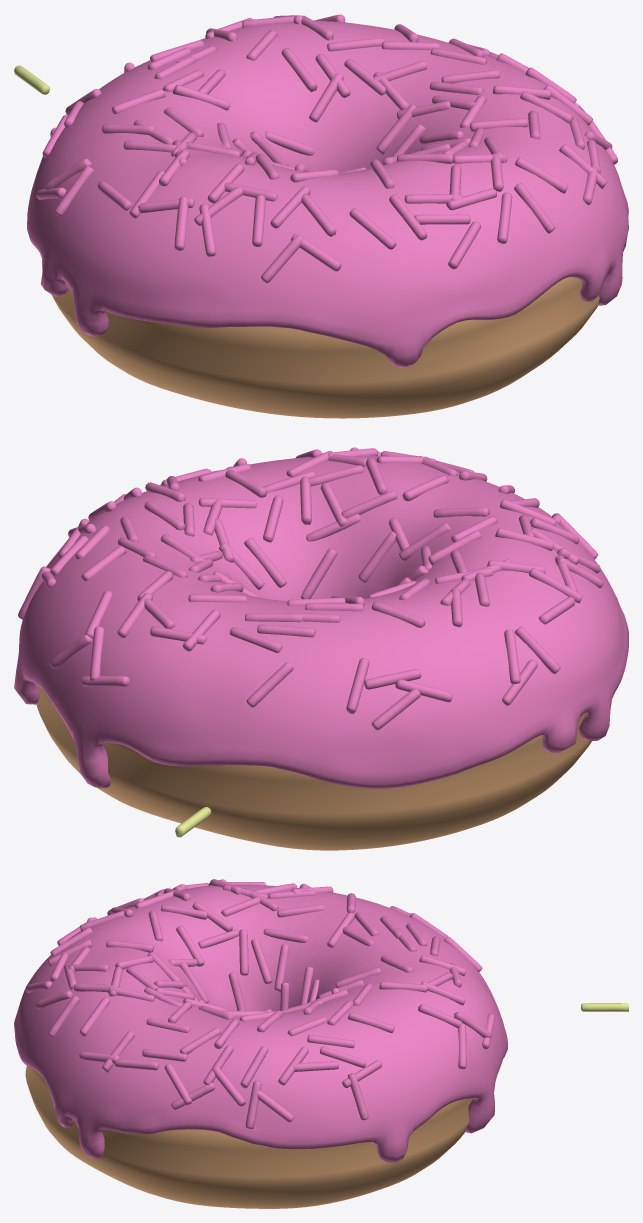
The model's file is donut-florianne.glb.
3 views of the same model, one above another, from view 1: azimuth 30°, elevation 25°; view 2: azimuth 150°, elevation 25°; view 3: azimuth 270°, elevation 25° (orthographic). The views are drawn at different scales.
Visible parts, largest first — view 1: glaze, donut; view 2: glaze, donut; view 3: glaze, donut.
Part boxes in pixels (x1,y1,x2,y2): glaze: [27, 14, 628, 367]; donut: [41, 259, 599, 418]; glaze: [14, 447, 628, 788]; donut: [35, 684, 591, 850]; glaze: [14, 879, 507, 1163]; donut: [25, 1065, 472, 1208].
Size of the model in its own units: 0.5144 by 0.2217 by 0.6371.
